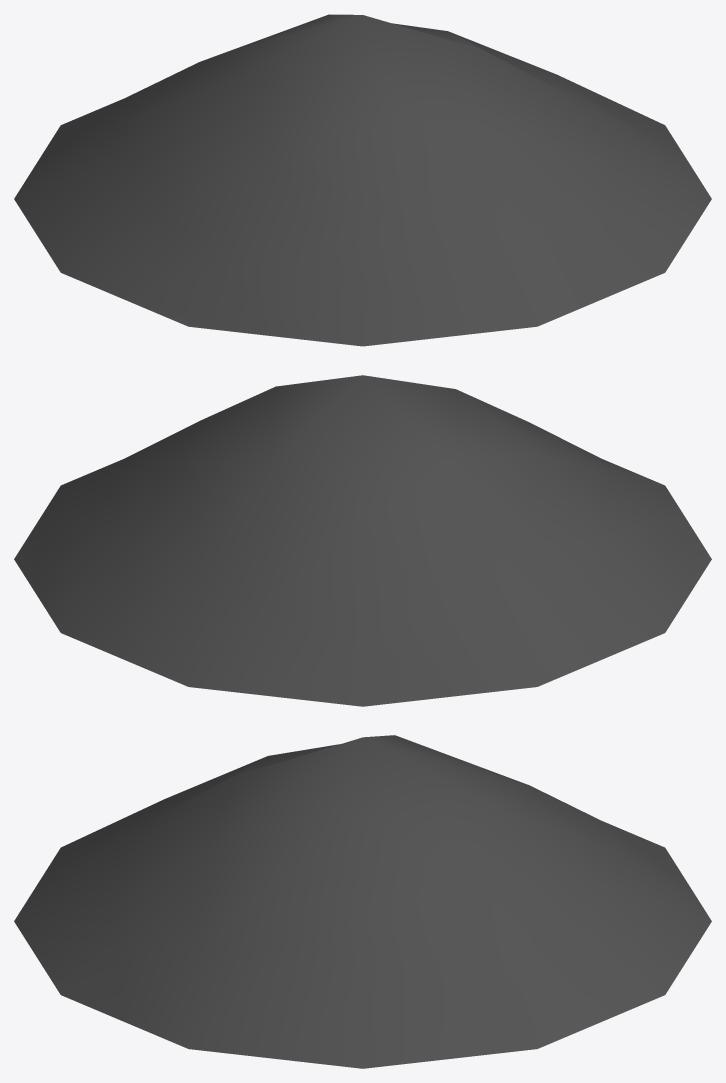
File: Dust_01.fbx
3 views of the same model, one above another, from view 1: azimuth 30°, elevation 25°; view 2: azimuth 150°, elevation 25°; view 3: azimuth 270°, elevation 25° (orthographic).
Parts seen in each view (by area): view 1: Dust_01; view 2: Dust_01; view 3: Dust_01.
Boxes of the visible parts, x1,y1,x2,y2 form: Dust_01: (14, 14, 711, 346); Dust_01: (14, 375, 711, 706); Dust_01: (14, 735, 711, 1068).
Bounding box in the file's own units: 11.89 × 3.46 × 11.89.
